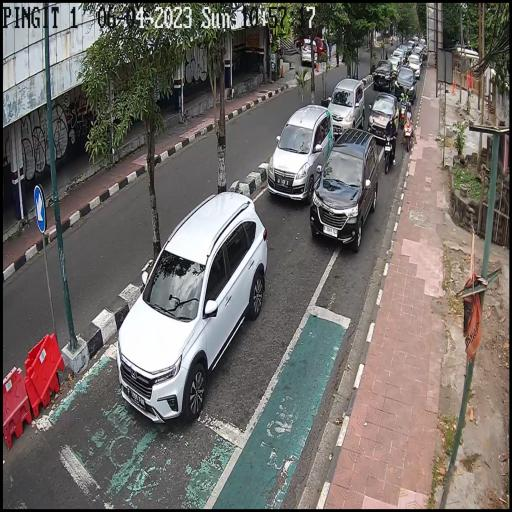mobil: (116, 190, 268, 426), (310, 125, 378, 251), (268, 104, 332, 206), (325, 75, 365, 143), (366, 88, 399, 144), (394, 65, 418, 108), (373, 55, 394, 97), (408, 52, 421, 80), (388, 54, 401, 78), (391, 49, 405, 67)
motor: (380, 125, 396, 176), (402, 117, 415, 156), (399, 100, 408, 133)
